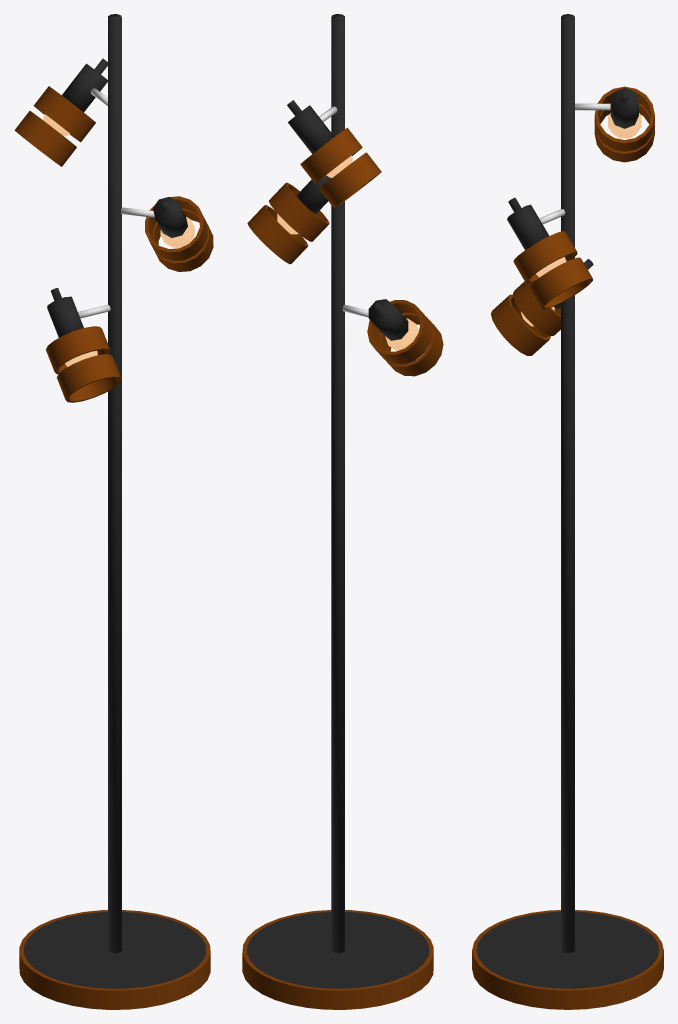
The model's file is wood-ring-floor-lamp.glb.
3 renders of one model, left to right at view 1: azimuth 30°, elevation 25°; view 2: azimuth 150°, elevation 25°; view 3: azimuth 270°, elevation 25°, orthographic.
Parts seen in each view (by area): view 1: Cylinder, Cylinder.001, Cylinder.003 (×3), Cylinder.004 (×3); view 2: Cylinder, Cylinder.001, Cylinder.003 (×3), Cylinder.004 (×3); view 3: Cylinder, Cylinder.001, Cylinder.003 (×3), Cylinder.004 (×2).
Boxes of the visible parts, box(x1,y1,x2,y2) form: Cylinder: box(19, 910, 210, 1009); Cylinder.001: box(108, 14, 121, 952); Cylinder.003 (×3): box(14, 86, 213, 402); Cylinder.004 (×3): box(47, 58, 187, 337); Cylinder: box(242, 910, 433, 1009); Cylinder.001: box(331, 14, 344, 952); Cylinder.003 (×3): box(247, 128, 443, 376); Cylinder.004 (×3): box(287, 100, 408, 340); Cylinder: box(472, 910, 663, 1009); Cylinder.001: box(561, 14, 574, 952); Cylinder.003 (×3): box(491, 86, 654, 355); Cylinder.004 (×2): box(507, 87, 638, 249).
Bounding box in the file's own units: 0.2835 × 1.48 × 0.27.
